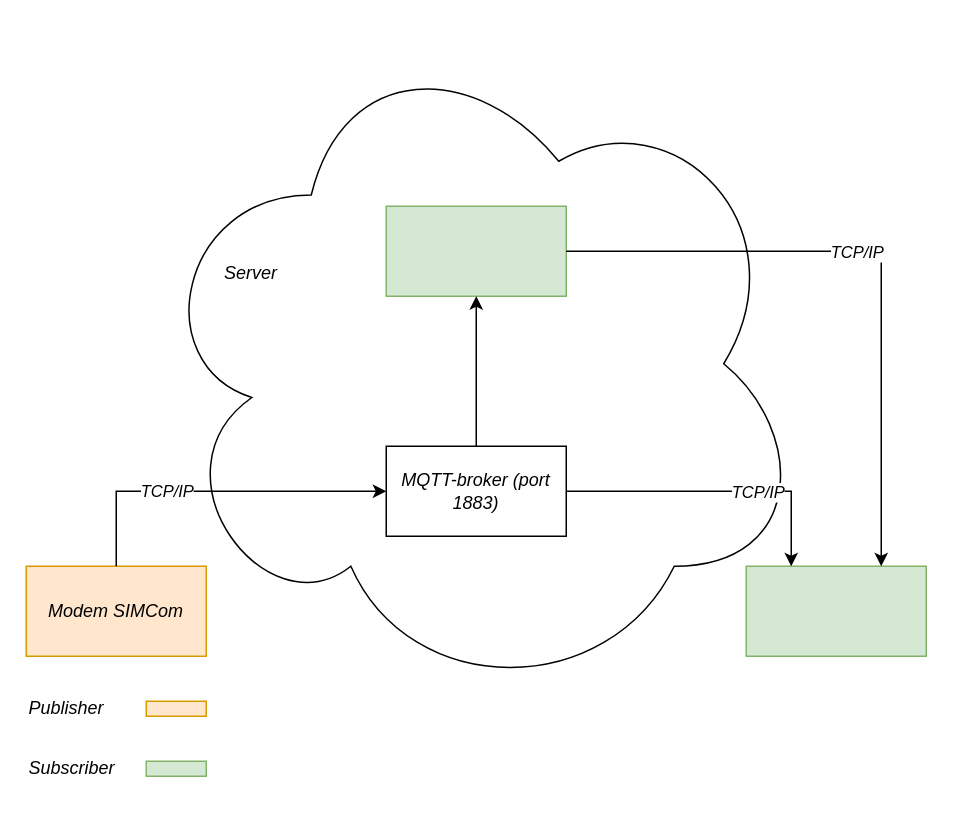
Image size: 953x818. Some labels were removed from this diagram. Here are the shapes that lost their labels. From the top down, the box of each, then its label:
(385, 205, 566, 296): Database MySql (port 3306)
(745, 565, 926, 656): Client
